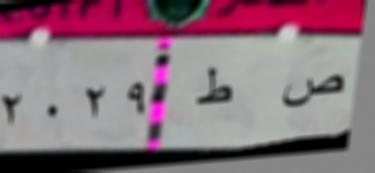0: (43, 100, 62, 124)
2: (1, 87, 26, 132), (82, 83, 108, 126)
9: (123, 78, 148, 121)
Taa: (193, 64, 233, 119)
saad: (276, 69, 346, 114)
